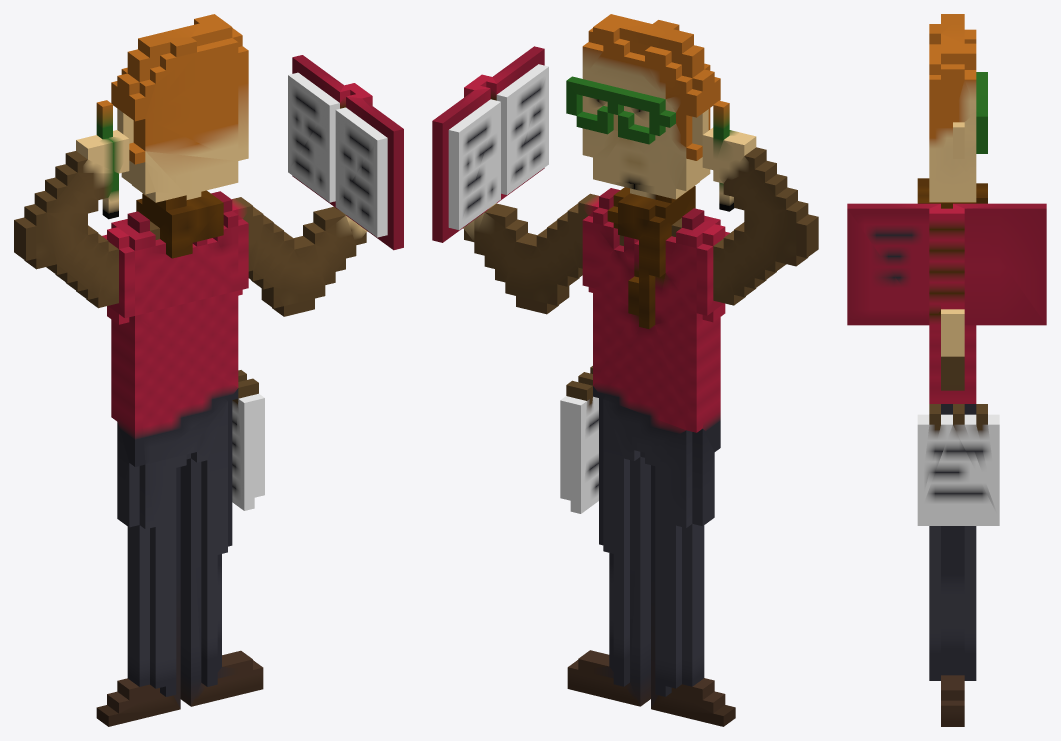
Rendered from Writter.dae.
The picture shows the model from 3 angles, left to right: view 1: azimuth 30°, elevation 25°; view 2: azimuth 150°, elevation 25°; view 3: azimuth 270°, elevation 25°; orthographic projection. The views are drawn at different scales.
Visible parts, largest first — view 1: writter.merged; view 2: writter.merged; view 3: writter.merged.
Part boxes in pixels (x1=…): writter.merged: x1=14, y1=14, x2=403, y2=726; writter.merged: x1=432, y1=14, x2=818, y2=726; writter.merged: x1=847, y1=14, x2=1046, y2=726.
Bounding box in the file's own units: 3.4 × 1.7 × 6.2.
Materials: 1 (1 with a texture image).
